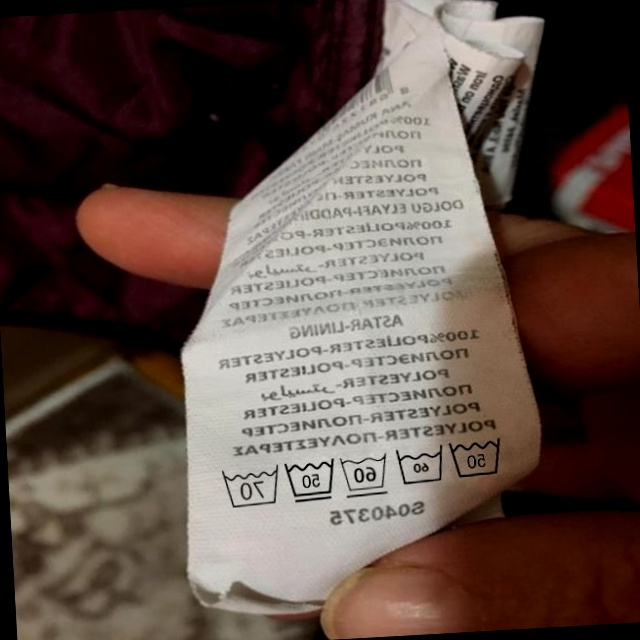50C: (444, 430, 509, 483), (281, 454, 339, 506)
60C: (335, 448, 391, 499), (391, 441, 447, 490)
70C: (215, 463, 281, 511)
